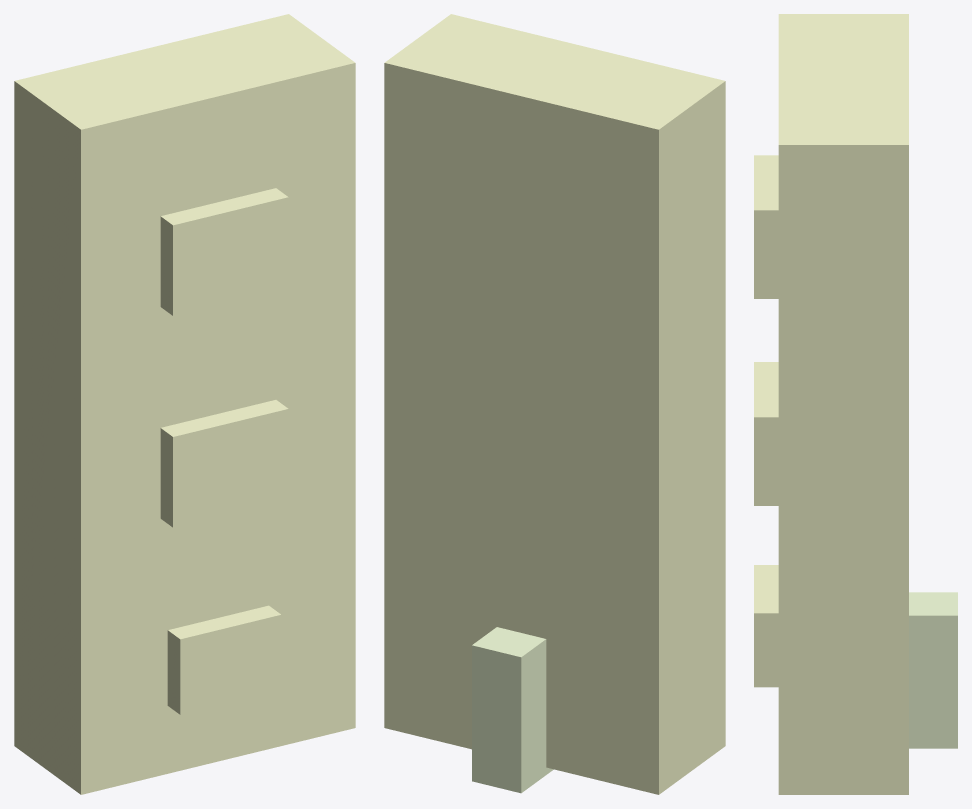
File: signal_tram_priority_bar_3_aspect.glb
3 renders of one model, left to right at view 1: azimuth 30°, elevation 25°; view 2: azimuth 150°, elevation 25°; view 3: azimuth 270°, elevation 25°, orthographic. The views are drawn at different scales.
Parts seen in each view (by area): view 1: housing, display_tram_go, display_tram_stop, display_tram_call; view 2: housing, bracket; view 3: housing, bracket, display_tram_stop, display_tram_go, display_tram_call.
Part boxes in pixels (left/top/right/bottom): housing: left=14, top=14, right=355, bottom=794; display_tram_go: left=160, top=400, right=288, bottom=527; display_tram_stop: left=160, top=188, right=288, bottom=315; display_tram_call: left=167, top=605, right=281, bottom=714; housing: left=384, top=14, right=725, bottom=794; bracket: left=472, top=627, right=553, bottom=793; housing: left=778, top=14, right=908, bottom=794; bracket: left=909, top=592, right=957, bottom=748; display_tram_stop: left=754, top=155, right=778, bottom=298; display_tram_go: left=754, top=362, right=778, bottom=505; display_tram_call: left=754, top=565, right=778, bottom=687.
Size of the model in its own units: 0.38 by 0.89 by 0.25.
